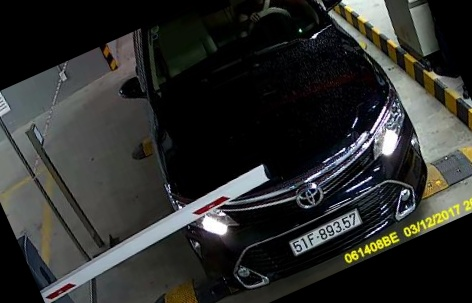plate: (287, 211, 361, 260)
